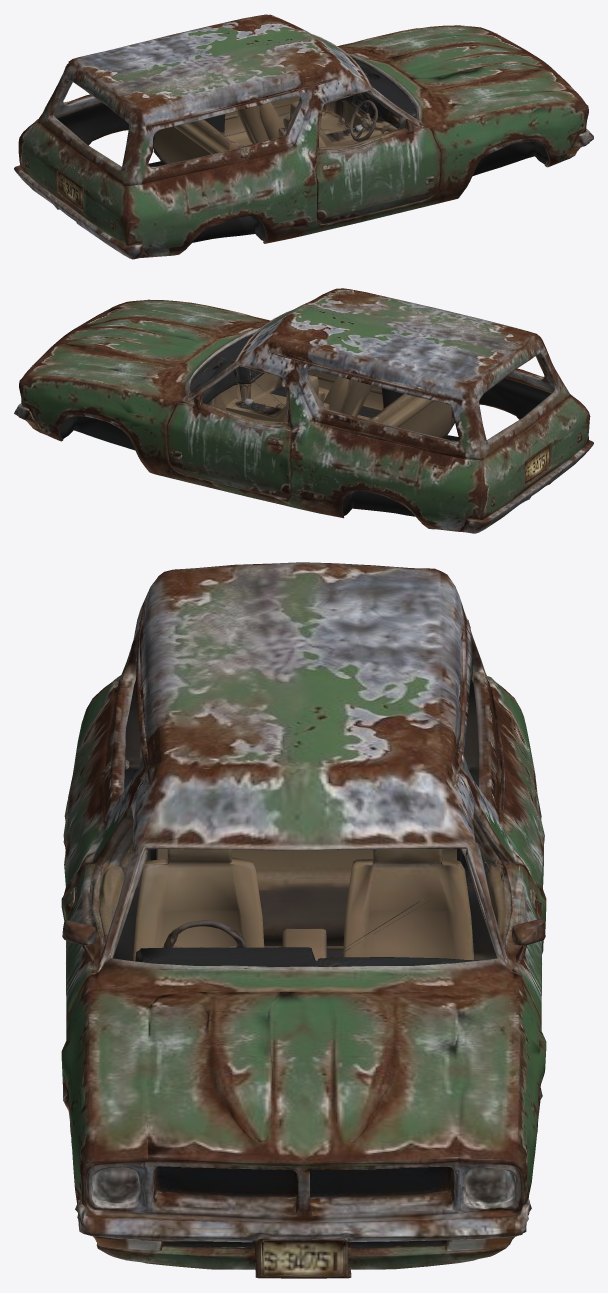
File: relic.glb
3 views of the same model, one above another, from view 1: azimuth 30°, elevation 25°; view 2: azimuth 150°, elevation 25°; view 3: azimuth 270°, elevation 25° (orthographic). The views are drawn at different scales.
Visible parts, largest first — view 1: relic; view 2: relic; view 3: relic.
Boxes of the visible parts, x1=… form: relic: x1=14, y1=14, x2=593, y2=259; relic: x1=14, y1=288, x2=593, y2=533; relic: x1=61, y1=562, x2=546, y2=1278.
Bounding box in the file's own units: 5 × 1.55 × 2.18.
1 material, 1 textured.
